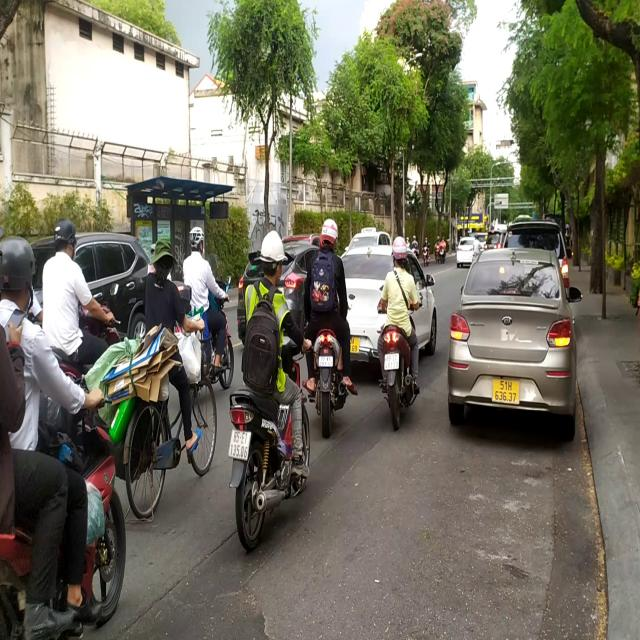bien_trang: (232, 431, 252, 462)
bien_vang: (492, 374, 520, 411)
